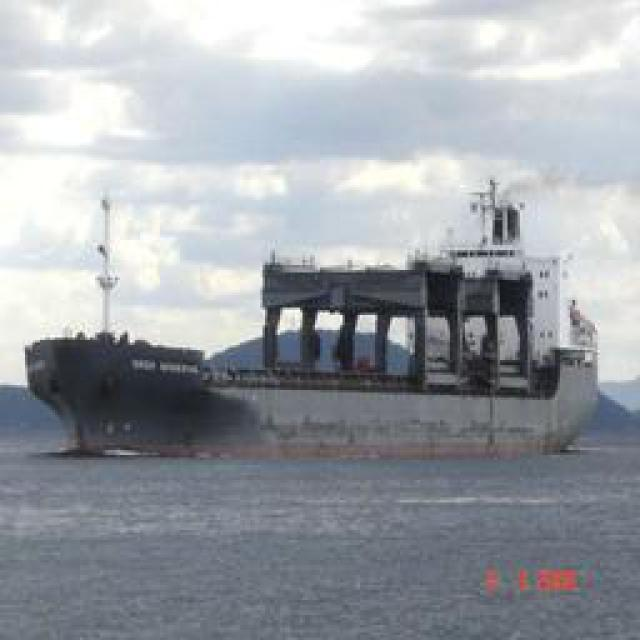Ship: (19, 217, 599, 466)
